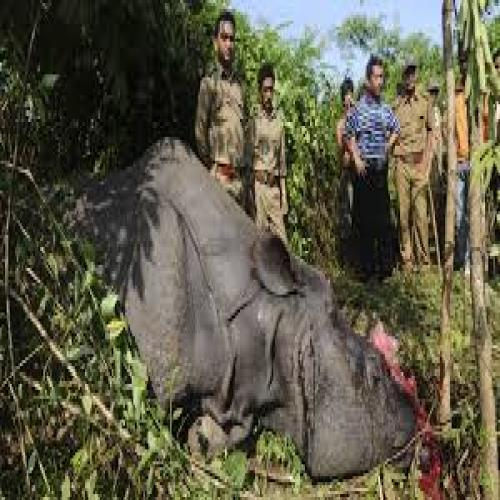rhino-endangered: (44, 142, 421, 482)
